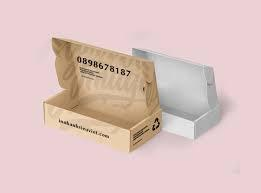box: (43, 37, 162, 155), (132, 47, 221, 142)
